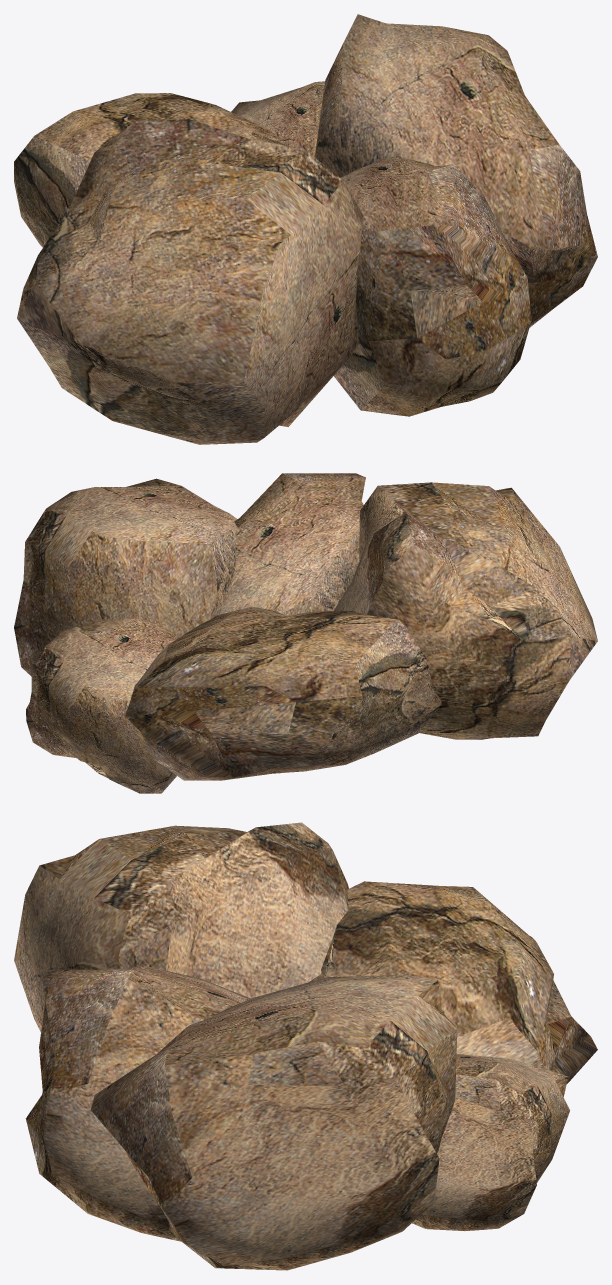
The model's file is Rock-compressed.fbx.
3 views of the same model, one above another, from view 1: azimuth 30°, elevation 25°; view 2: azimuth 150°, elevation 25°; view 3: azimuth 270°, elevation 25° (orthographic). The views are drawn at different scales.
Parts seen in each view (by area): view 1: Cube.004, Cube.002, Cube.003, Cube, Cube.001; view 2: Cube.004, Cube, Cube.002, Cube.001, Cube.003; view 3: Cube.002, Cube.004, Cube, Cube.003, Cube.001.
Boxes of the visible parts, x1,y1,x2,y2 form: Cube.004: [17, 119, 363, 444]; Cube.002: [314, 14, 597, 327]; Cube.003: [334, 156, 531, 416]; Cube: [14, 93, 288, 247]; Cube.001: [231, 81, 324, 156]; Cube.004: [333, 482, 597, 739]; Cube: [125, 606, 441, 780]; Cube.002: [14, 478, 239, 676]; Cube.001: [26, 618, 179, 793]; Cube.003: [220, 473, 365, 615]; Cube.002: [91, 974, 457, 1270]; Cube.004: [14, 822, 348, 1031]; Cube: [309, 881, 597, 1083]; Cube.003: [25, 965, 250, 1241]; Cube.001: [412, 1054, 569, 1230].
Size of the model in its own units: 897 by 453 by 793.
Materials: 1 (1 with a texture image).
